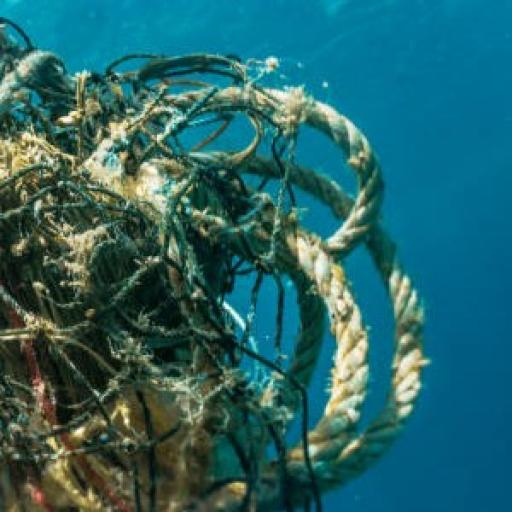net: (2, 7, 428, 512)
